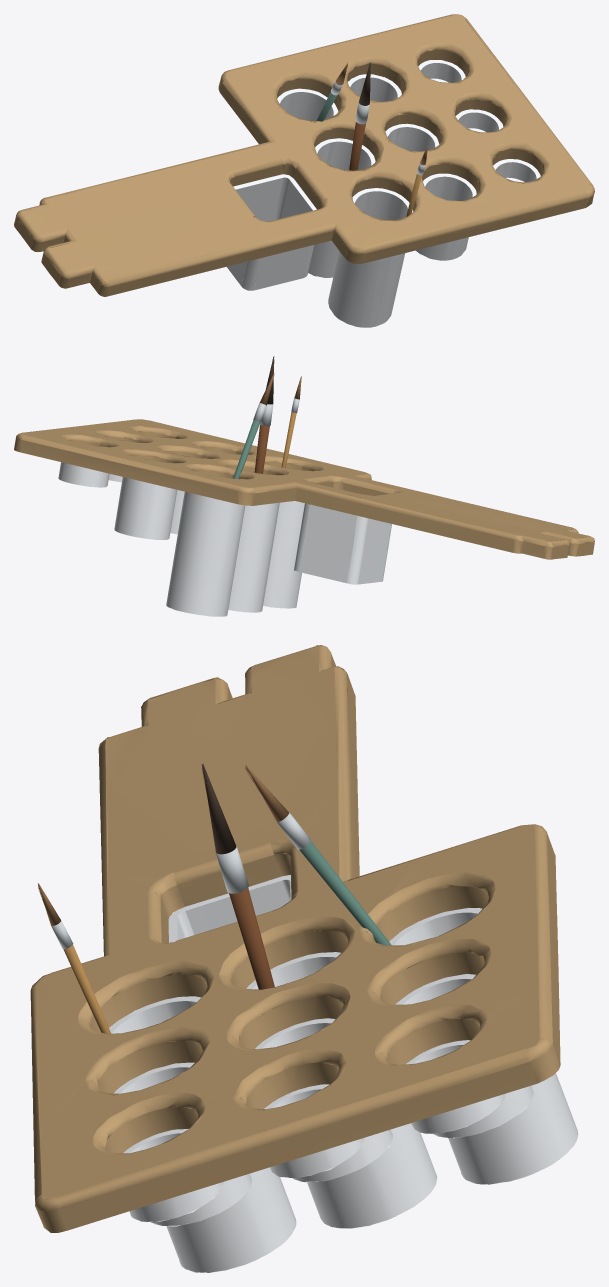
The model's file is ergoflex-painter-shelf.glb.
3 views of the same model, one above another, from view 1: azimuth 30°, elevation 25°; view 2: azimuth 150°, elevation 25°; view 3: azimuth 270°, elevation 25° (orthographic). The views are drawn at different scales.
Visible parts, largest first — view 1: Artist shelf surface, Artist clear acrylic holders, Brush 0 lacquered handle, Brush 0 ferrule; view 2: Artist shelf surface, Artist clear acrylic holders, Brush 0 lacquered handle, Brush 0 ferrule, Brush 2 lacquered handle; view 3: Artist shelf surface, Artist clear acrylic holders, Brush 0 lacquered handle, Brush 0 ferrule, Brush 2 lacquered handle, Brush 0 bristle body, Brush 1 lacquered handle, Brush 1 bristle body.
Boxes of the visible parts, x1=… form: Artist shelf surface: x1=14, y1=14, x2=594, y2=296; Artist clear acrylic holders: x1=227, y1=60, x2=540, y2=327; Brush 0 lacquered handle: x1=349, y1=122, x2=365, y2=170; Brush 0 ferrule: x1=331, y1=80, x2=425, y2=175; Artist shelf surface: x1=14, y1=419, x2=594, y2=559; Artist clear acrylic holders: x1=58, y1=462, x2=391, y2=616; Brush 0 lacquered handle: x1=254, y1=425, x2=269, y2=473; Brush 0 ferrule: x1=253, y1=398, x2=299, y2=426; Brush 2 lacquered handle: x1=233, y1=420, x2=260, y2=478; Artist shelf surface: x1=30, y1=645, x2=560, y2=1232; Artist clear acrylic holders: x1=109, y1=875, x2=578, y2=1272; Brush 0 lacquered handle: x1=229, y1=888, x2=274, y2=989; Brush 0 ferrule: x1=51, y1=812, x2=310, y2=949; Brush 2 lacquered handle: x1=299, y1=841, x2=391, y2=945; Brush 0 bristle body: x1=201, y1=764, x2=236, y2=854; Brush 1 lacquered handle: x1=63, y1=945, x2=110, y2=1033; Brush 1 bristle body: x1=38, y1=765, x2=289, y2=925.
Size of the model in its own units: 0.574 by 0.2801 by 0.2799.
